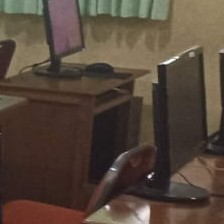monitor: (143, 45, 209, 194), (42, 0, 85, 65)
